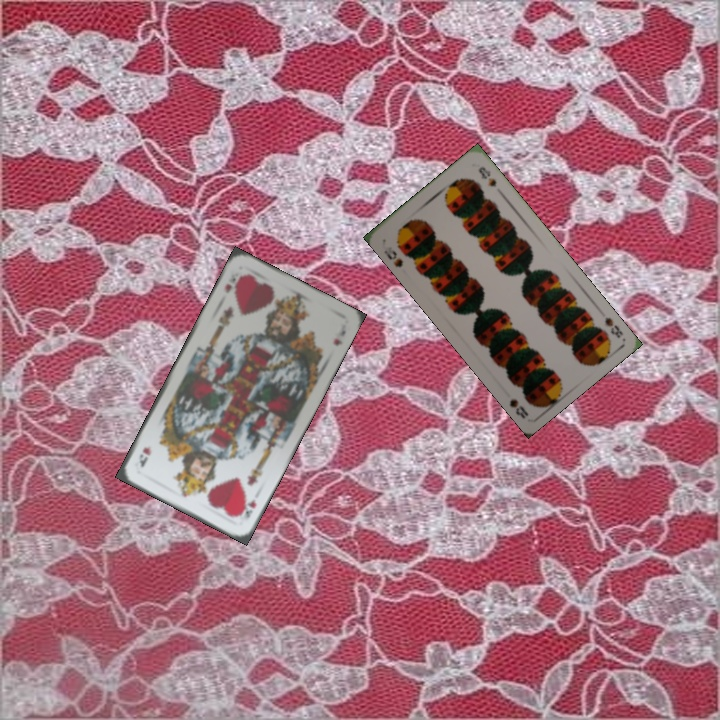HK: (235, 494, 259, 523), (221, 271, 245, 296)
S8: (379, 239, 406, 270), (600, 313, 626, 341)
